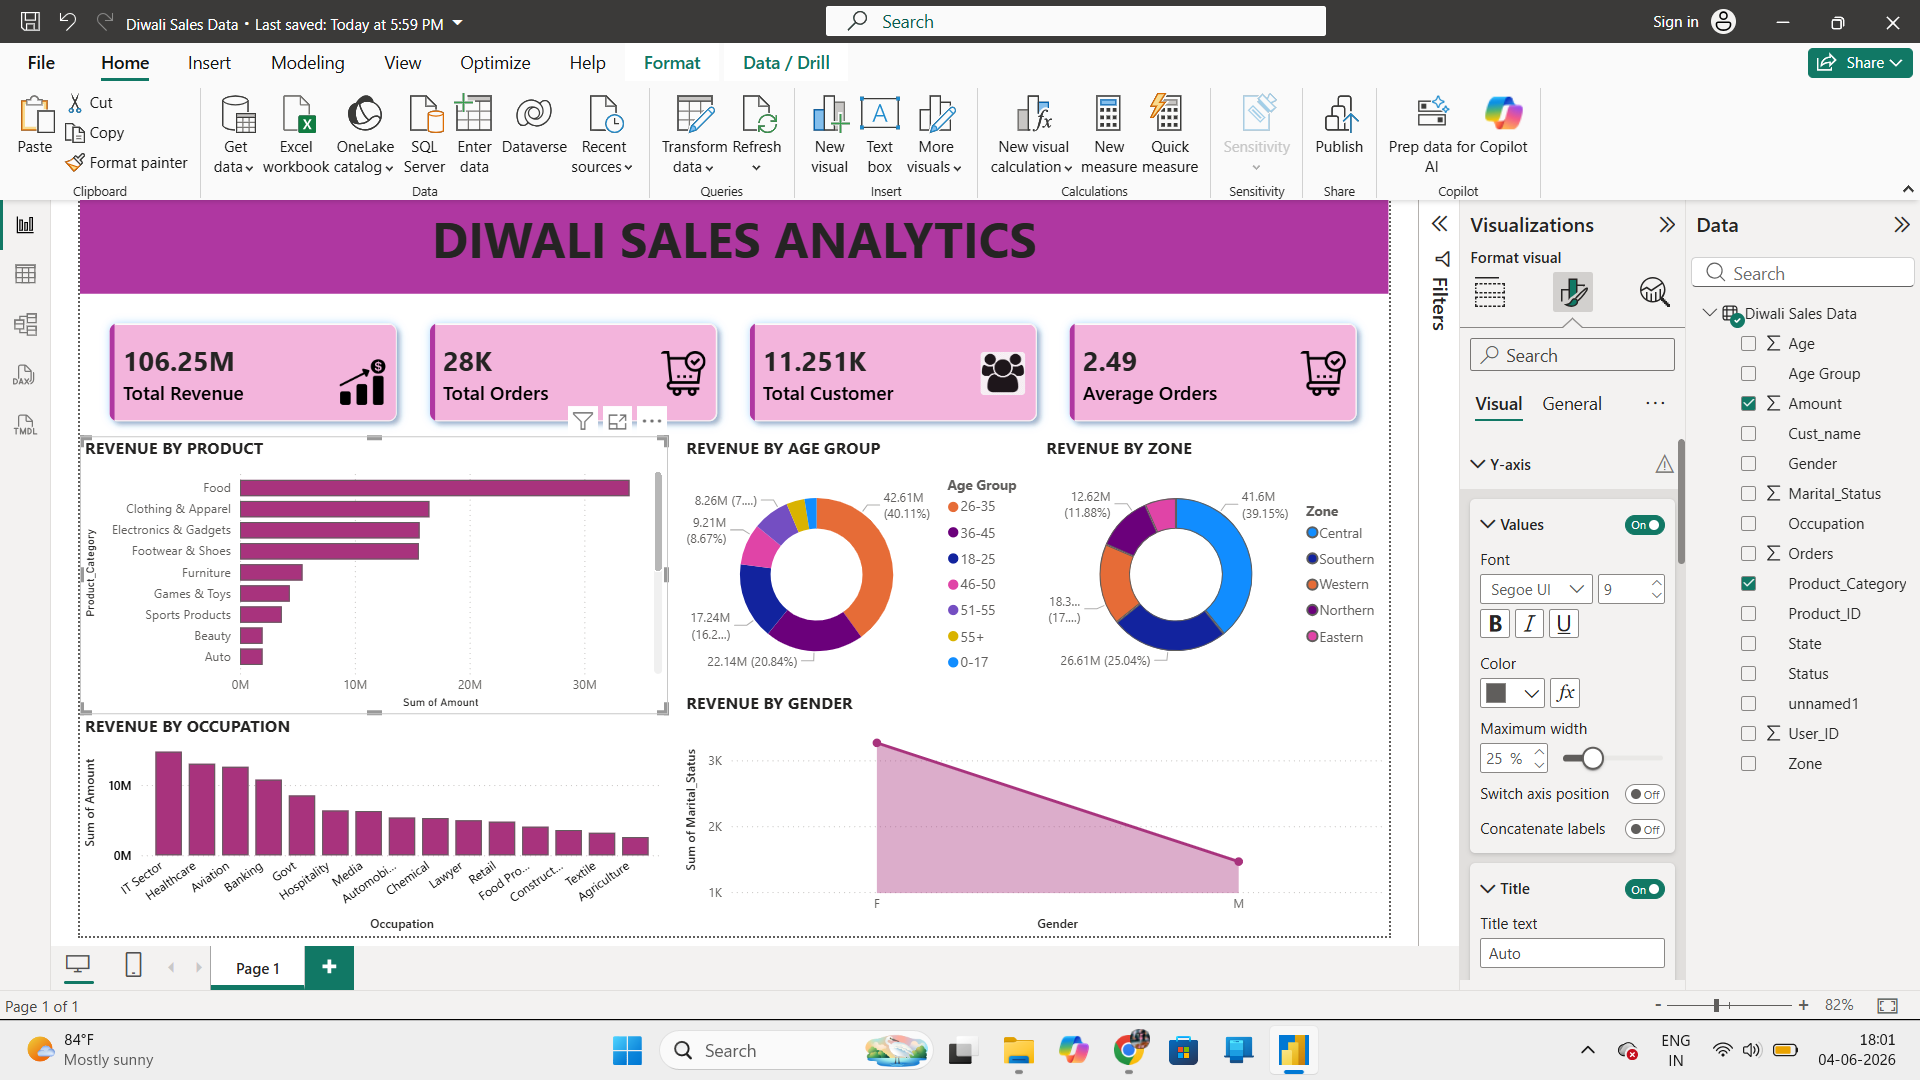

What the dashboard file says about the page in this screenshot:
{"tool":"powerbi","page":{"name":"Page 1","canvas":[1280,720],"ordinal":0},"visuals":[{"type":"textbox","box":[0,0,1280.3,91.7],"z":0},{"type":"cardVisual","fields":{"Data":["Sum(Diwali Sales Data.Amount)","Sum(Diwali Sales Data.Orders)","CountNonNull(Diwali Sales Data.User_ID)","Avg(Diwali Sales Data.Orders)"]},"box":[0,91.7,1280.3,154.1],"z":2},{"type":"clusteredBarChart","title":"REVENUE BY PRODUCT","fields":{"Category":["Diwali Sales Data.Product_Category"],"Y":["Sum(Diwali Sales Data.Amount)"]},"box":[0,231.1,574.7,271.5],"z":3},{"type":"donutChart","title":"REVENUE BY AGE GROUP","fields":{"Category":["Diwali Sales Data.Age Group"],"Y":["Sum(Diwali Sales Data.Amount)"]},"box":[588.2,231.1,352.2,249.5],"z":4},{"type":"donutChart","title":"REVENUE BY ZONE","fields":{"Y":["Sum(Diwali Sales Data.Amount)"],"Category":["Diwali Sales Data.Zone"]},"box":[940.4,231.1,339.9,249.5],"z":5},{"type":"clusteredColumnChart","title":"REVENUE BY OCCUPATION","fields":{"Category":["Diwali Sales Data.Occupation"],"Y":["Sum(Diwali Sales Data.Amount)"]},"box":[0,502.6,574.7,217.7],"z":6},{"type":"lineChart","title":"REVENUE BY GENDER","fields":{"Category":["Diwali Sales Data.Gender"],"Y":["Sum(Diwali Sales Data.Marital_Status)"]},"box":[588.2,480.6,692.1,239.7],"z":7}]}

Visuals, with their boxes on the page's 1280x720 design canvas (x1, y1, x2, y2). These are canvas units, not pixel positions in the 1920x1080 screenshot, which may show the page scaled, cropped or inside an application window:
textbox: {"left": 0, "top": 0, "right": 1280, "bottom": 92}
cardVisual - Sum(Diwali Sales Data.Amount) x Sum(Diwali Sales Data.Orders): {"left": 0, "top": 92, "right": 1280, "bottom": 246}
"REVENUE BY PRODUCT" clusteredBarChart: {"left": 0, "top": 231, "right": 575, "bottom": 503}
"REVENUE BY AGE GROUP" donutChart: {"left": 588, "top": 231, "right": 940, "bottom": 481}
"REVENUE BY ZONE" donutChart: {"left": 940, "top": 231, "right": 1280, "bottom": 481}
"REVENUE BY OCCUPATION" clusteredColumnChart: {"left": 0, "top": 503, "right": 575, "bottom": 720}
"REVENUE BY GENDER" lineChart: {"left": 588, "top": 481, "right": 1280, "bottom": 720}
